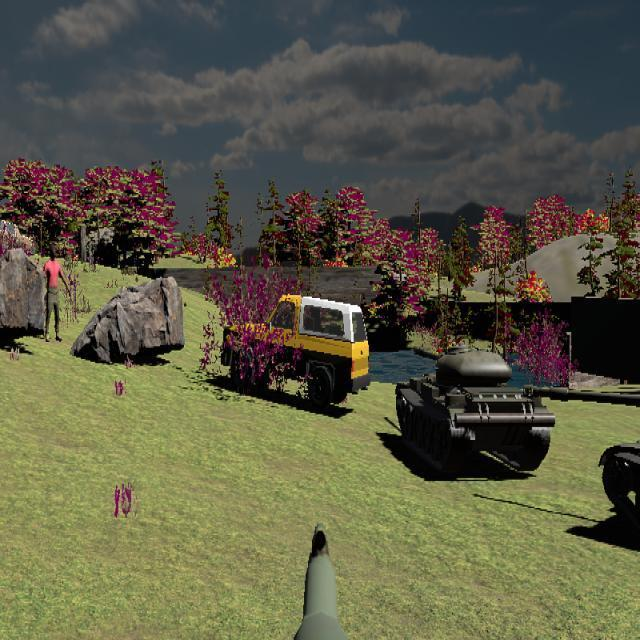Human: (40, 244, 70, 343)
Tank: (395, 339, 557, 477), (534, 370, 640, 557)
car: (221, 294, 370, 406)
